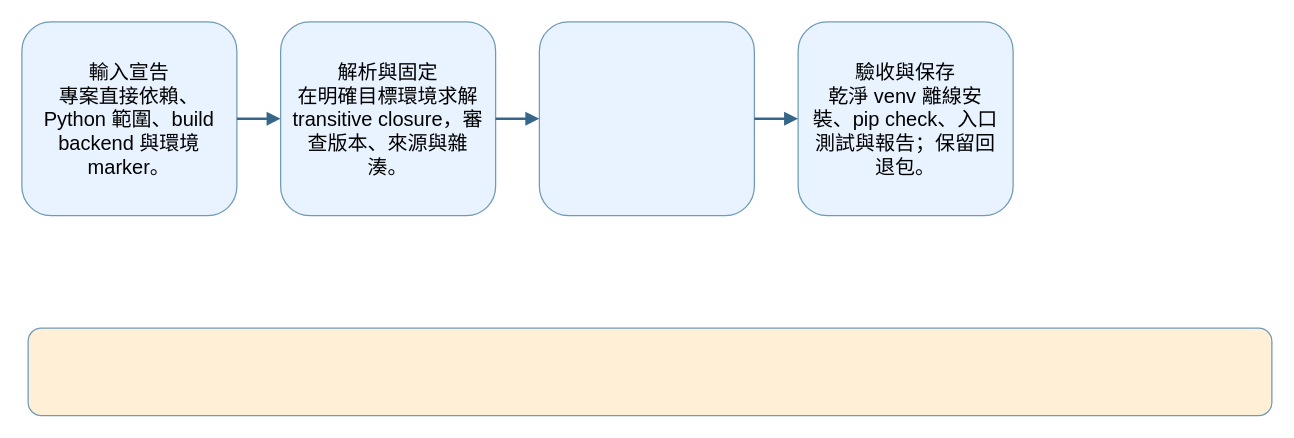
Some shapes in this 1294 by 438 pixel diagram are drawn without their labels. Each missing label, with the box of its shape:
受控成品 只保留目標 ABI／平台可用 wheels、清單與可信摘要。: (538, 21, 754, 216)
產物或證據不符 → 停止本次部署；復用已核准的上一版本環境、鎖檔及 wheel。: (27, 327, 1272, 416)
